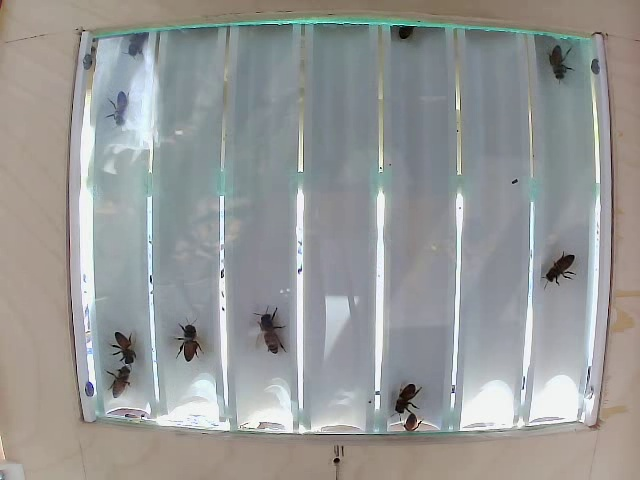bee: (538, 240, 580, 285), (540, 40, 578, 87), (180, 320, 214, 370), (107, 82, 146, 125), (250, 309, 289, 347), (103, 331, 142, 367), (96, 370, 136, 405), (387, 18, 412, 57), (395, 383, 423, 415)
